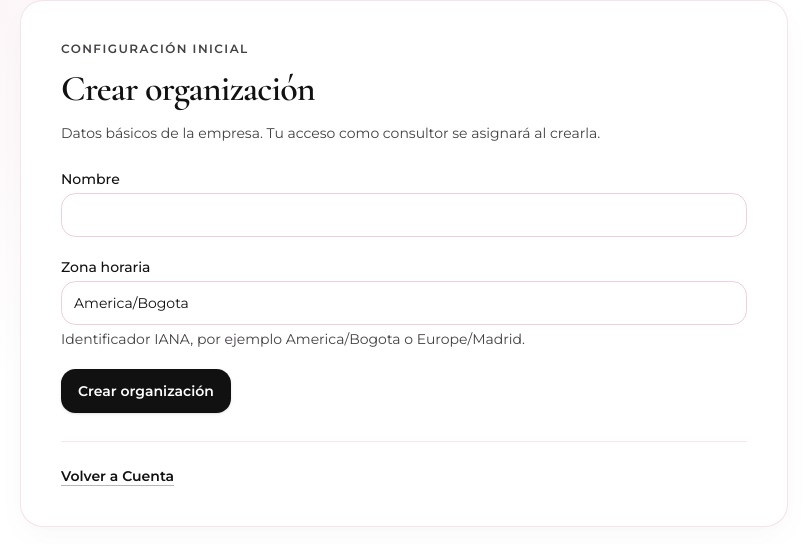
Scenario: Create organization › submits only the two fields and displays the returned organization
Type "Empresa Real" into the field labelled "Nombre". click: (404, 215)
box: [61, 193, 747, 237]
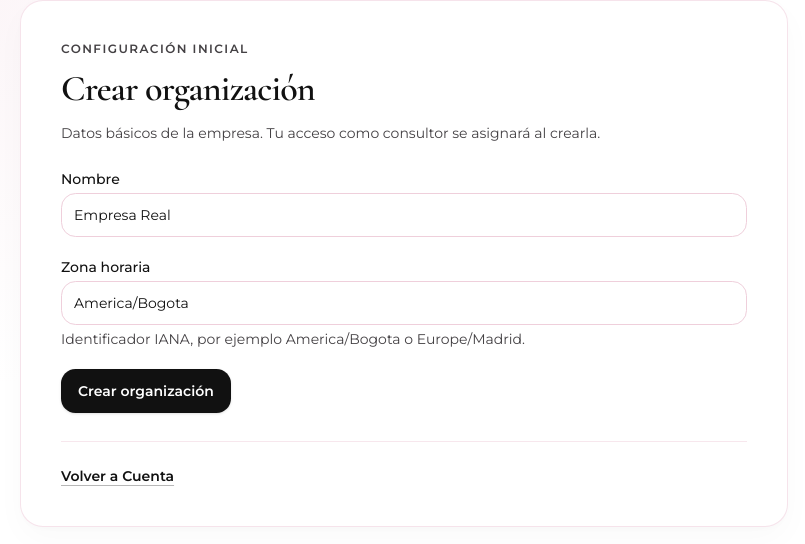
Replace the text in the field labelled "Zona horaria" with "Europe/Madrid". click: (404, 303)
box: [61, 281, 747, 325]
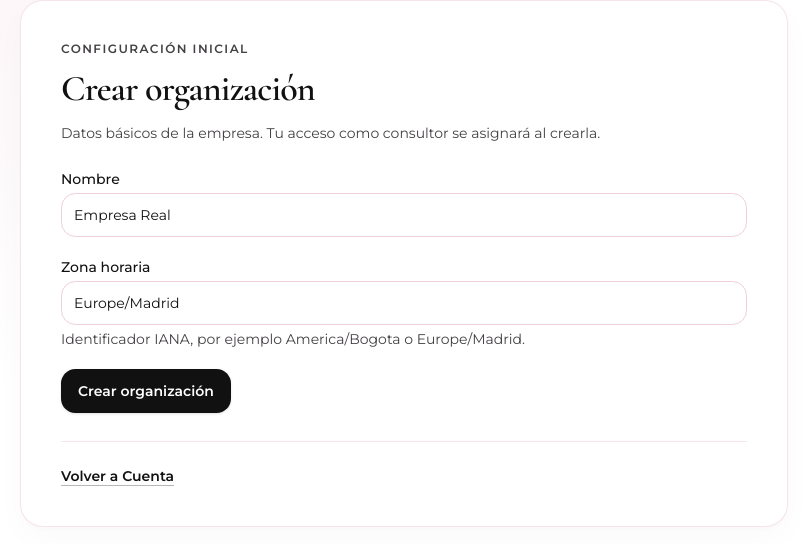
Click the button "Crear organización". click: (146, 391)
box: [61, 369, 231, 413]
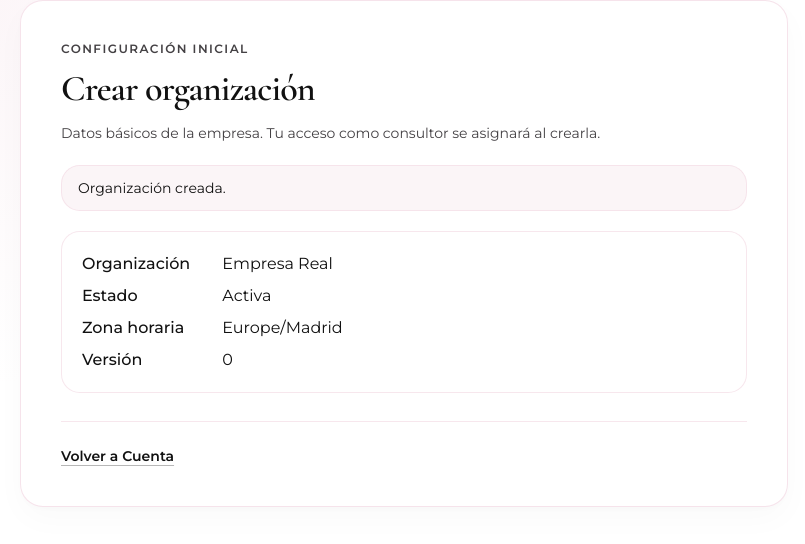
Check: the text "Organización creada." is shown, box [61, 165, 747, 211]
Check: the text "Empresa Real" is shown, box [222, 254, 333, 273]
Check: the text "Activa" is shown, box [222, 286, 271, 305]
